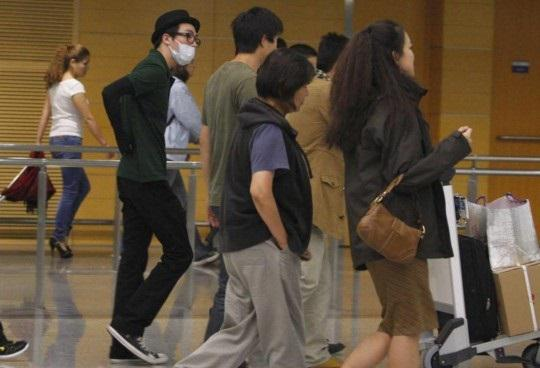NONE: (73, 60, 91, 78)
WRONG: (160, 28, 200, 68)
